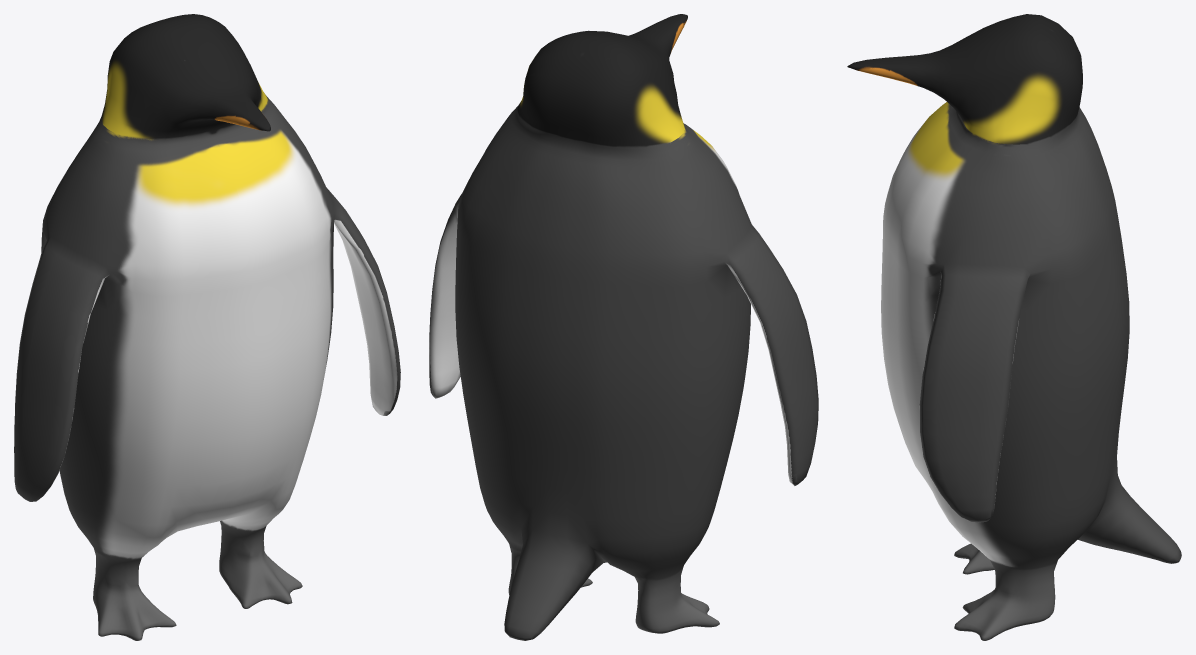
The model's file is Penguin_Static_1p3m.fbx.
3 views of the same model, side by side, from view 1: azimuth 30°, elevation 25°; view 2: azimuth 150°, elevation 25°; view 3: azimuth 270°, elevation 25° (orthographic).
Parts seen in each view (by area): view 1: Penguin_Body; view 2: Penguin_Body; view 3: Penguin_Body.
Part boxes in pixels (x1,y1,x2,y2): Penguin_Body: (14, 14, 400, 640); Penguin_Body: (429, 14, 818, 640); Penguin_Body: (847, 14, 1181, 640).
Size of the model in its own units: 86.58 by 130 by 69.1.
1 material, 1 textured.
